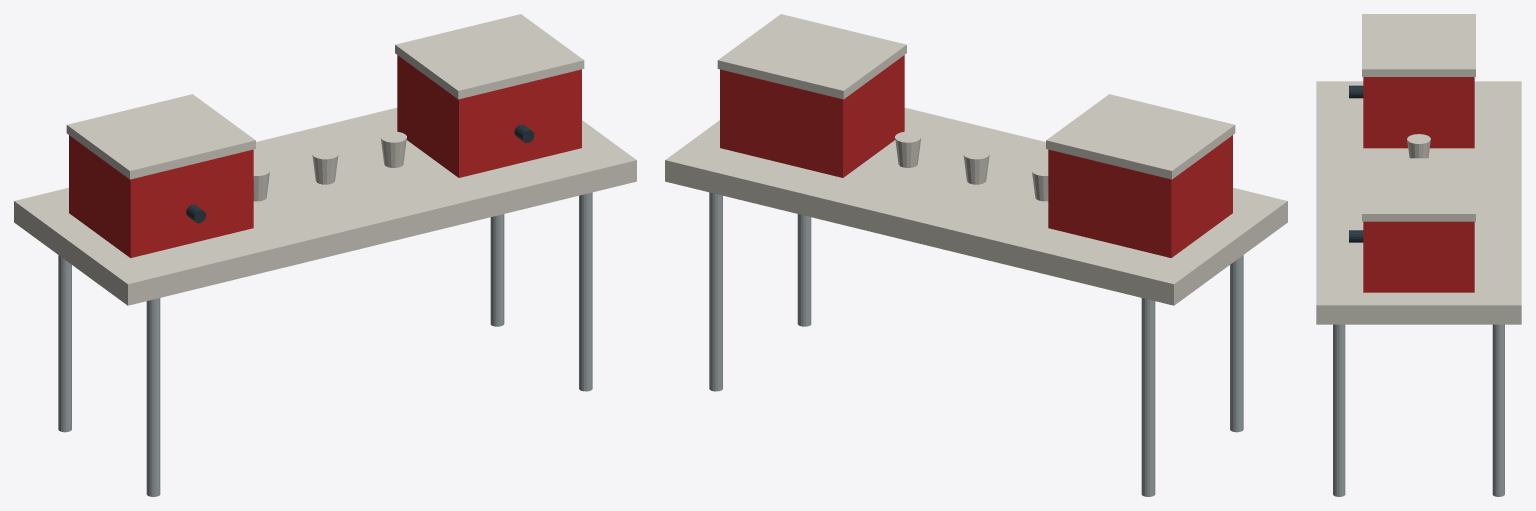
Rendered from scendance-plan-aid-station-electrolyte.glb.
3 renders of one model, left to right at view 1: azimuth 30°, elevation 25°; view 2: azimuth 150°, elevation 25°; view 3: azimuth 270°, elevation 25°, orthographic. The views are drawn at different scales.
Size of the model in its own units: 1.86 by 1.11 by 0.72.
